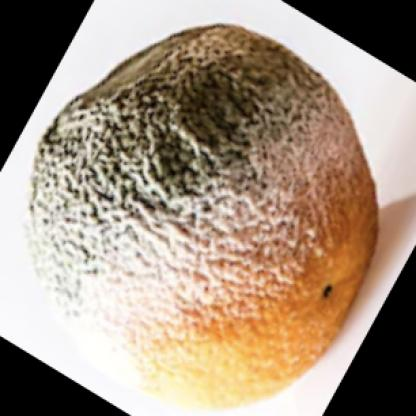rotten: (30, 27, 379, 403)
